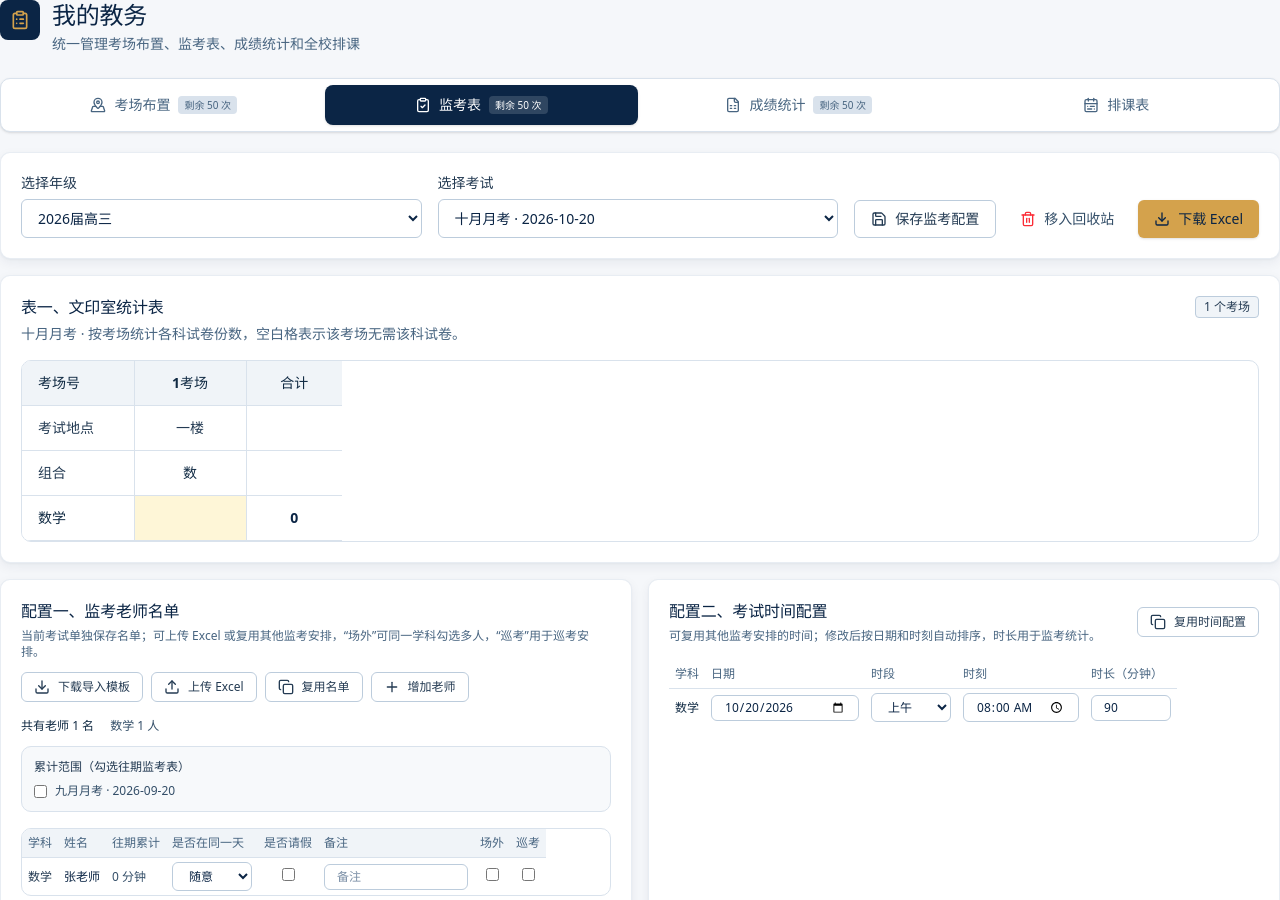
Test: MyExamsPage › accumulates selected previous invigilation durations
This screenshot has width=1280, height=900.
Expected: the element named "监考老师人数统计" shows "共有老师 1 名", [21,717,159,734]
Expected: the button "复用名单" is enabled, [264,672,362,702]
What coordinates should you click on to do the following:
click the checkbox named "累计 九月月考"
I would click on:
 (40, 791)
Its box is [34,784,47,798].
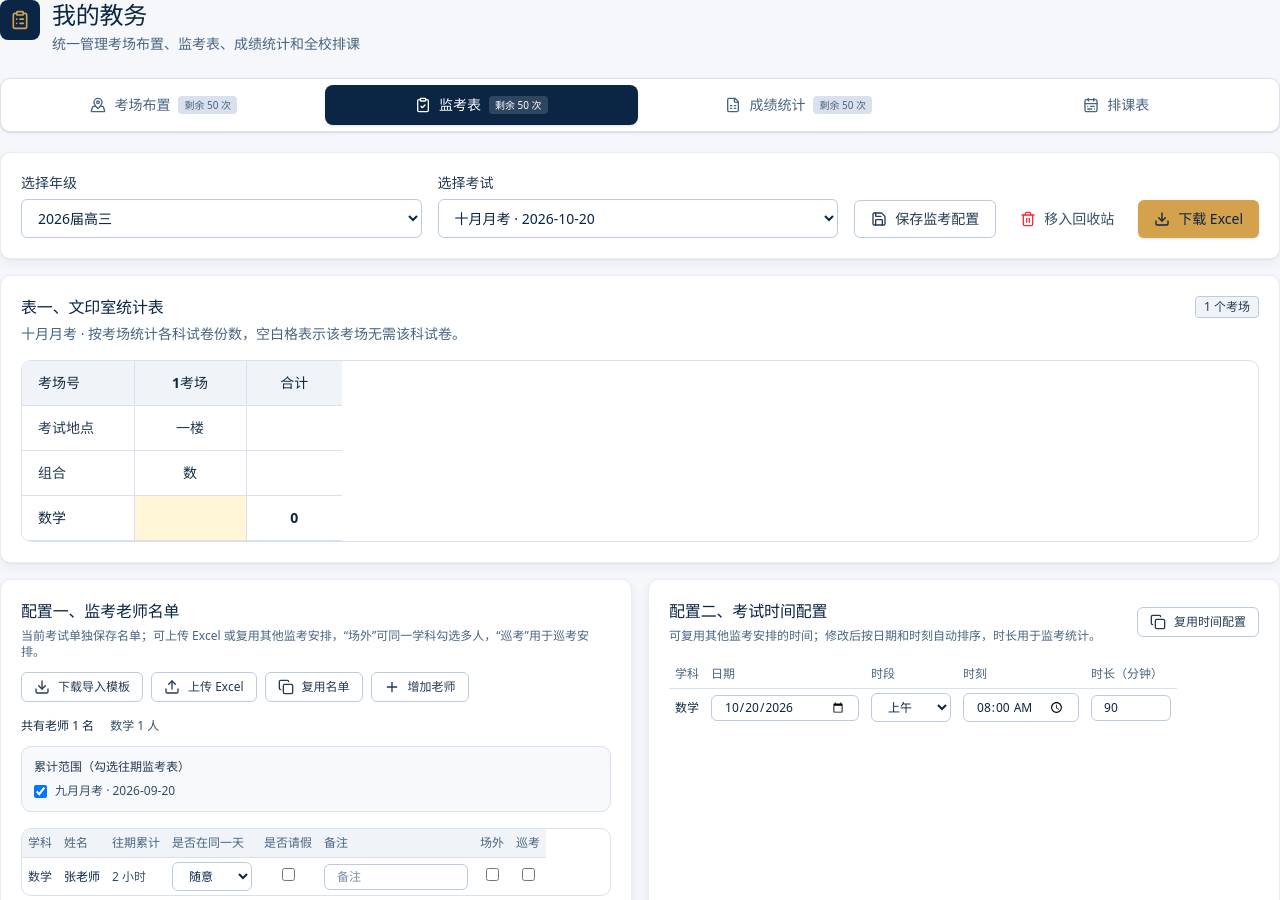
What coordinates should you click on to do the following:
click the button "复用名单"
I would click on:
 (314, 687)
Its box is [264,672,362,702].
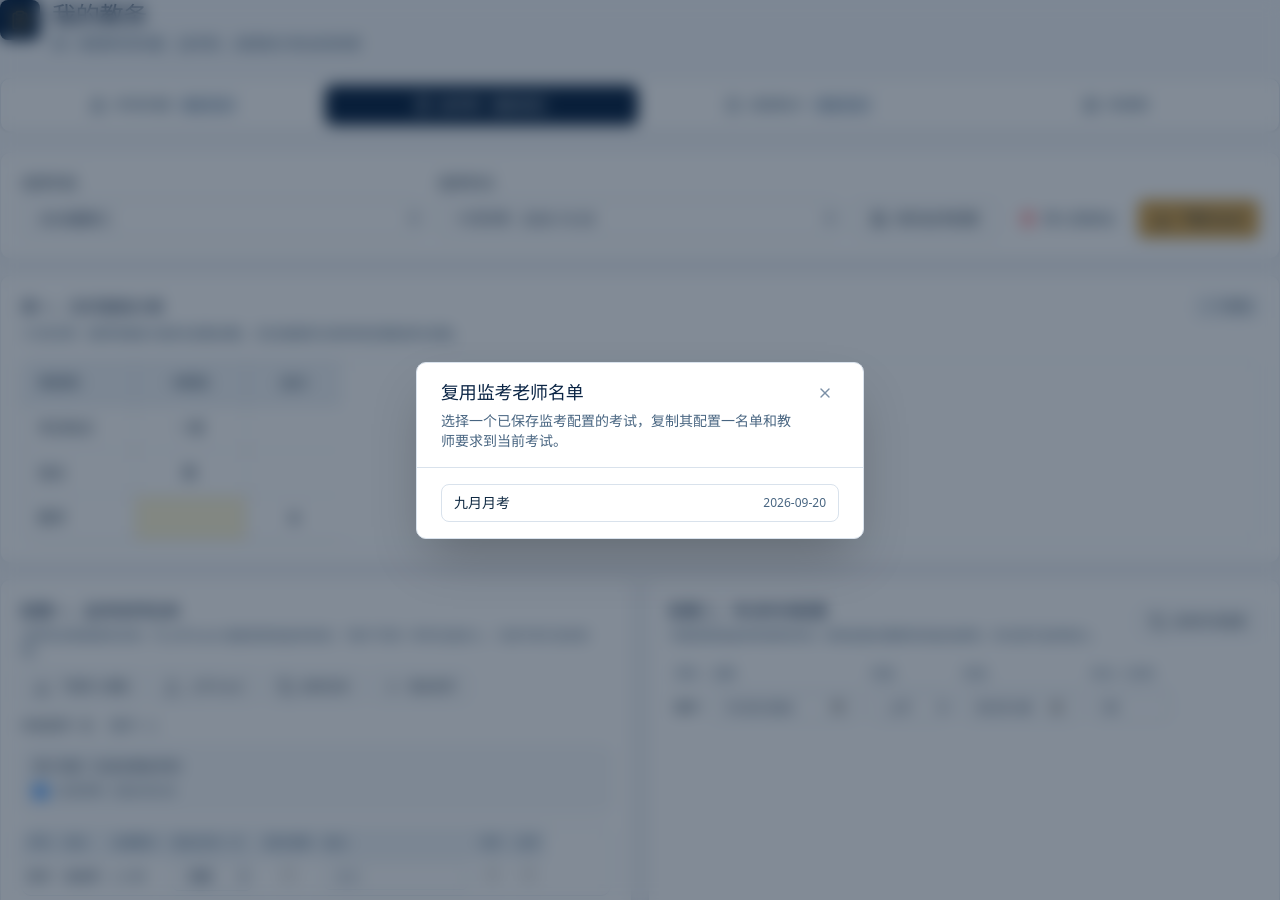
Expected: the heading "复用监考老师名单" is shown, [441,382,584,402]
What coordinates should you click on to do the following:
click the button "九月月考 2026-09-20"
I would click on:
 (482, 502)
Its box is [441,484,839,522].
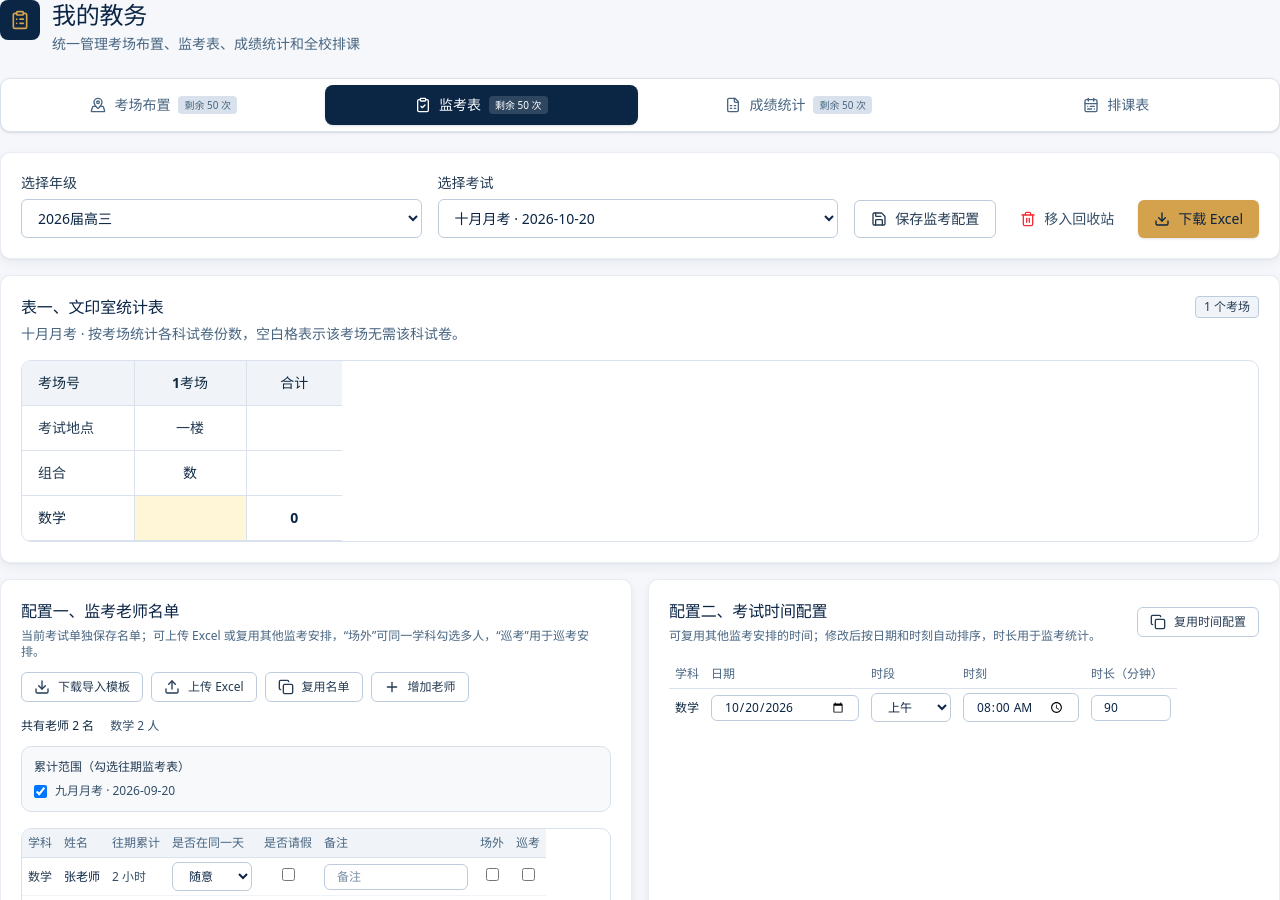
Expected: the date field named "数学考试日期" holds "2026-10-20", [711,694,859,720]
What coordinates should you click on to do the following:
click the button "复用时间配置"
I would click on:
 (1198, 622)
Its box is [1137,607,1259,637].
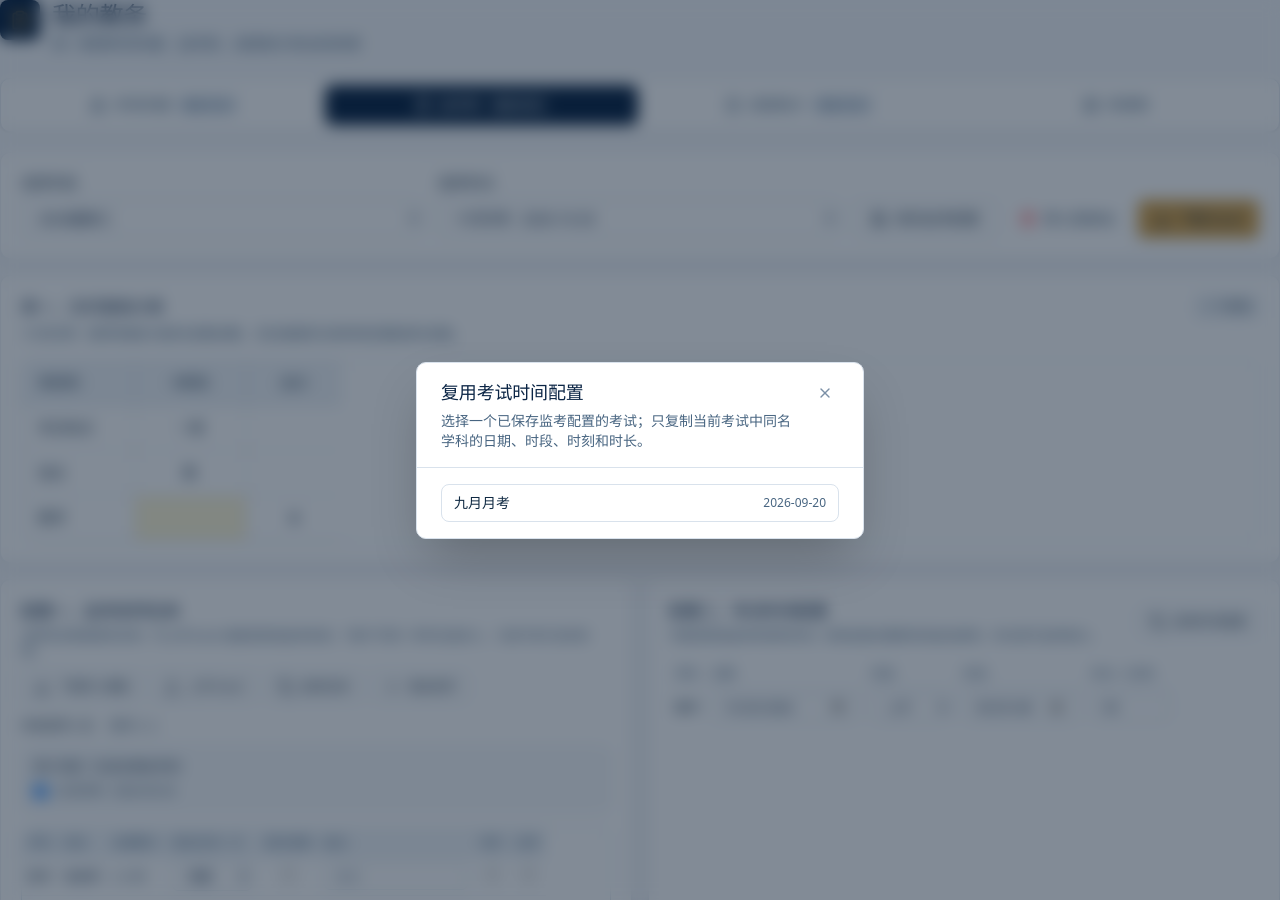
Expected: the heading "复用考试时间配置" is shown, [441,382,584,402]
What coordinates should you click on to do the following:
click the button "九月月考 2026-09-20"
I would click on:
 (482, 502)
Its box is [441,484,839,522].
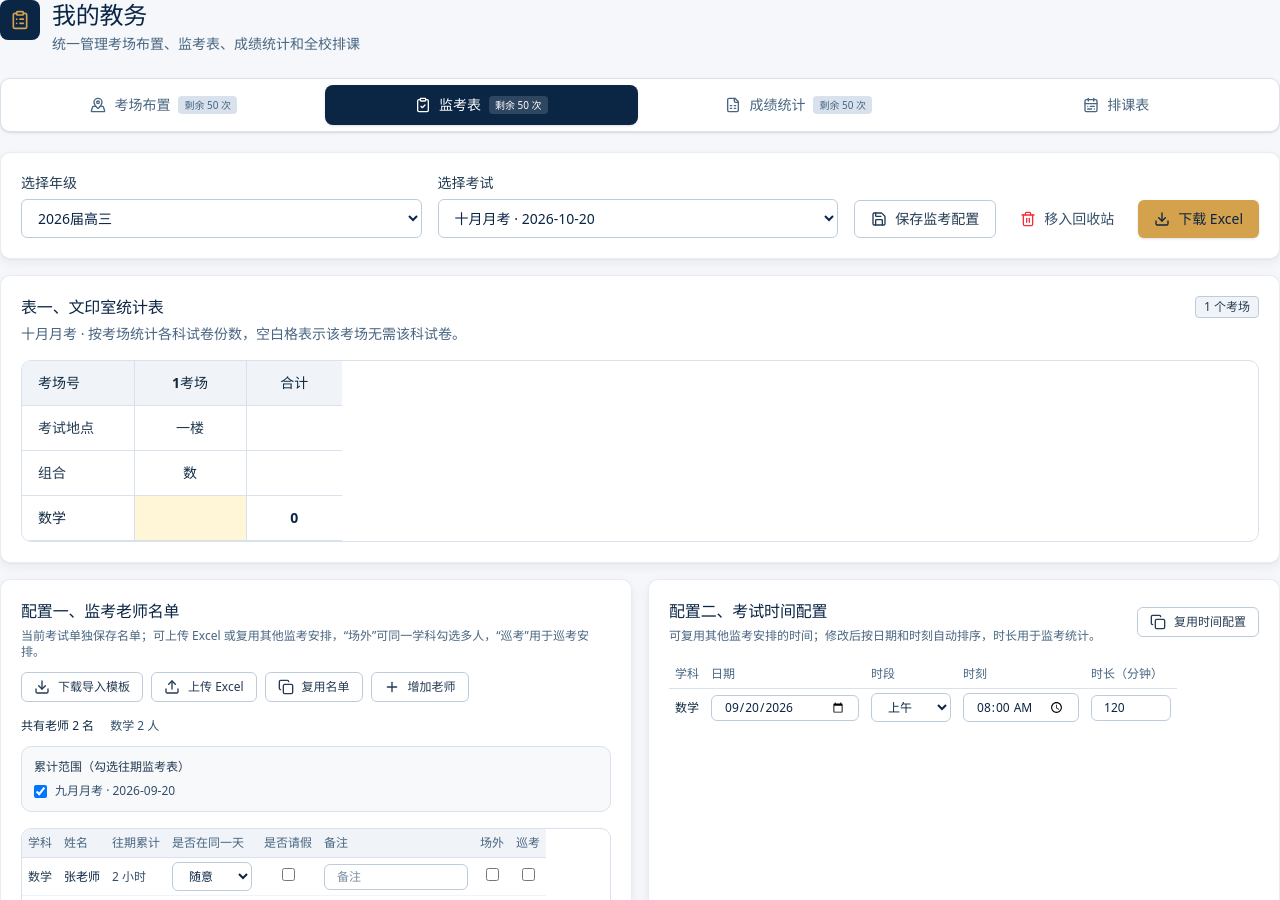
Expected: the date field named "数学考试日期" holds "2026-09-20", [711,694,859,720]
